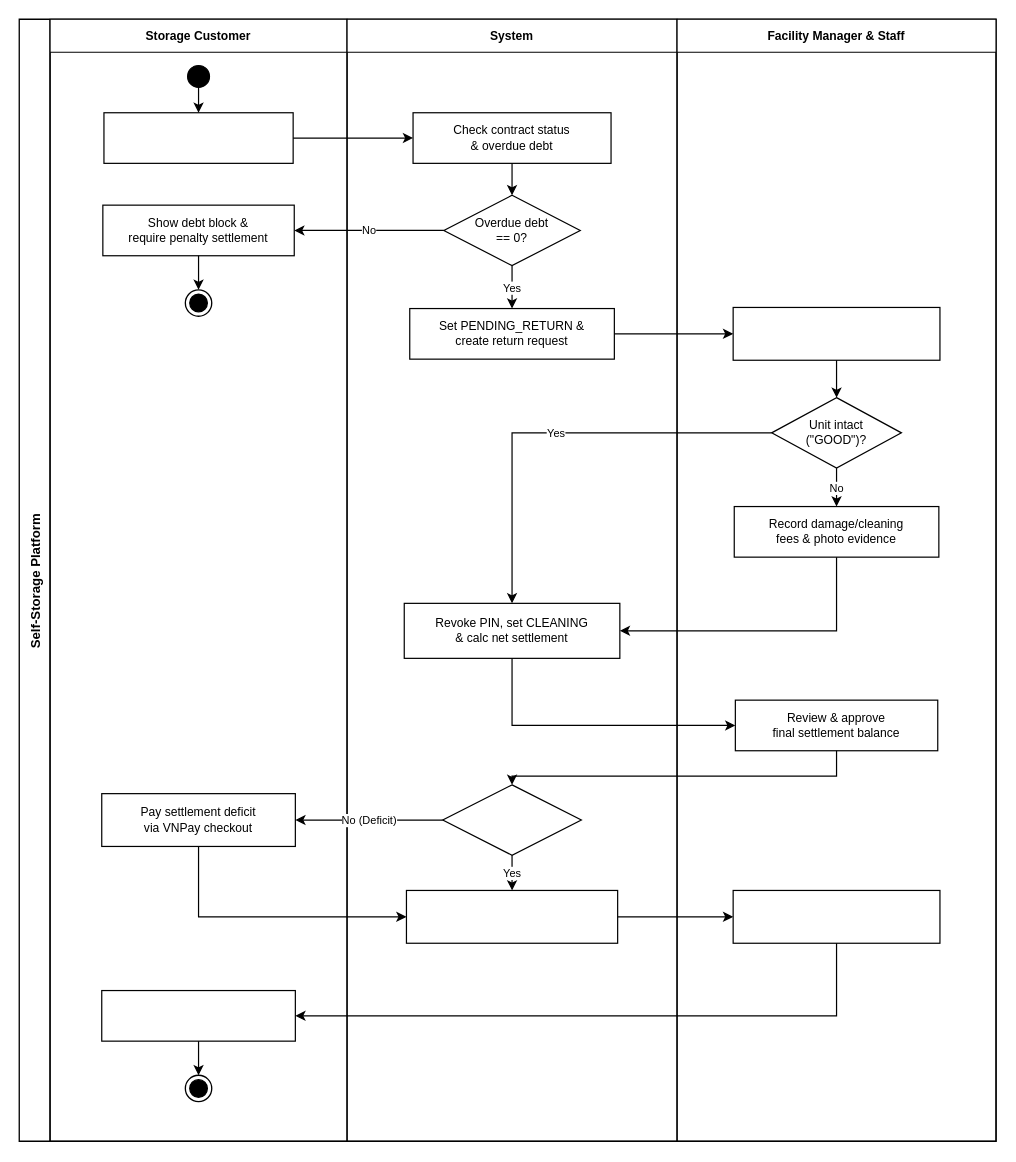
Image size: 1016x1162. Some labels were removed from this diagram. Each missing label, with the centre of its shape:
Close contract (CLOSED), record ledger & refund: the point at 511,916
Finish unit sanitation (AVAILABLE / RESERVED): the point at 836,916
Inspect unit & collect customer co-signature: the point at 836,333
Net refund >= 0?: the point at 511,819
Receive deposit refund (3-5 days) & receipt: the point at 198,1015
Submit return notice (on-time or early): the point at 198,137
